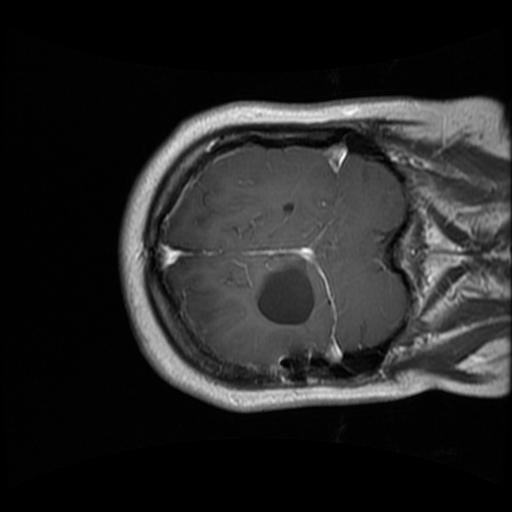glioma: (256, 268, 312, 328)
